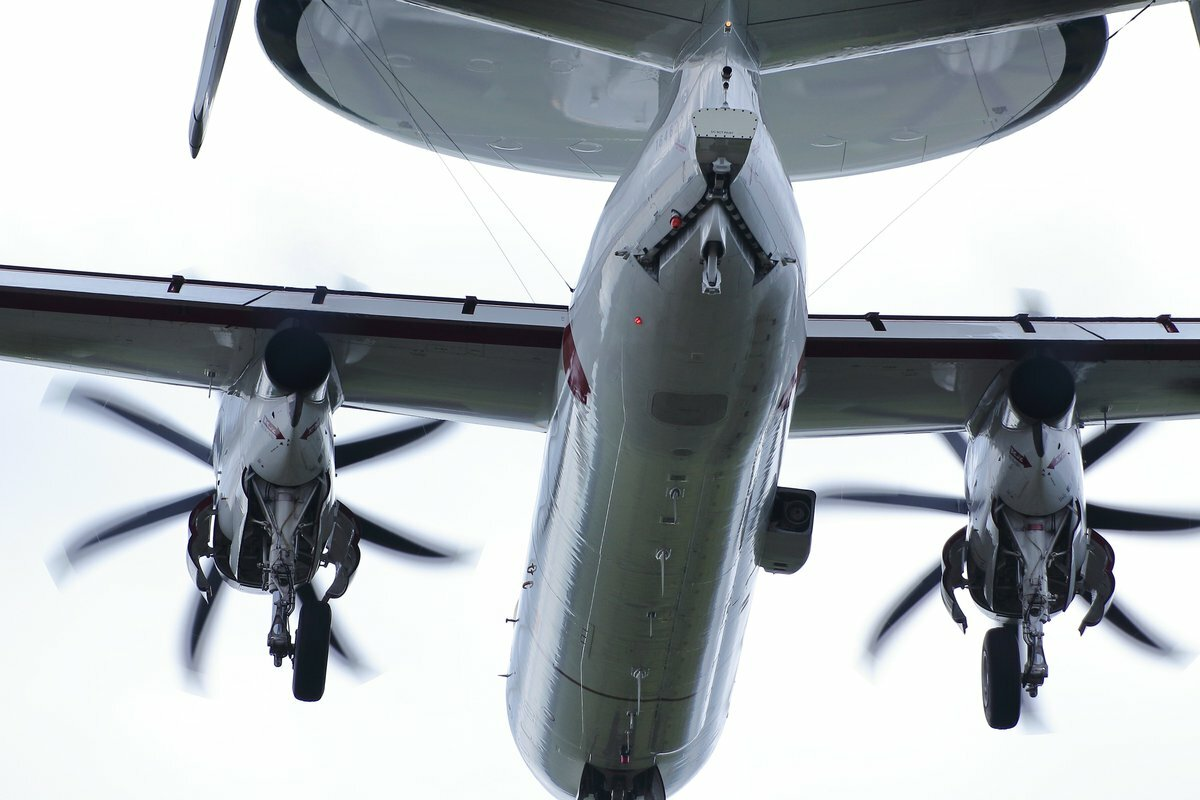E2: (1, 1, 1200, 800)
